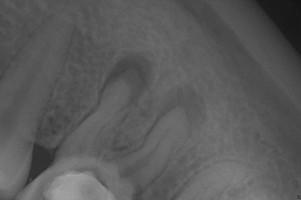Furcation Involvement: (98, 52, 157, 107), (156, 84, 209, 136)
